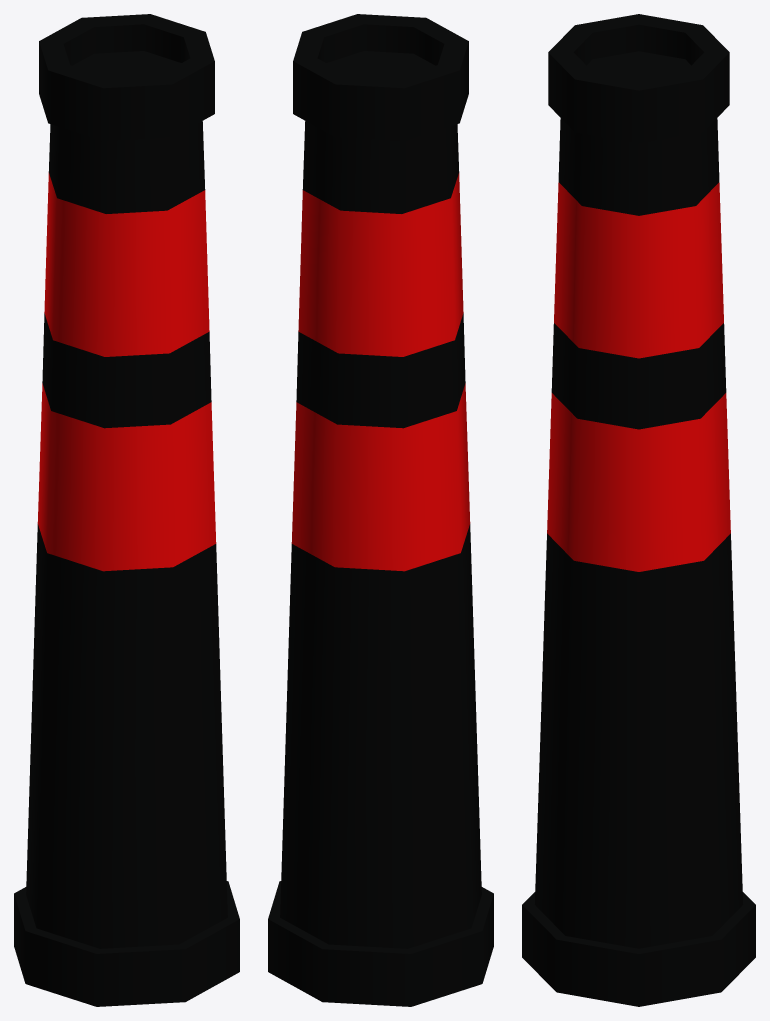
The model's file is chimney-medium.glb.
The picture shows the model from 3 angles, left to right: view 1: azimuth 30°, elevation 25°; view 2: azimuth 150°, elevation 25°; view 3: azimuth 270°, elevation 25°; orthographic projection.
Visible parts, largest first — view 1: chimney-medium; view 2: chimney-medium; view 3: chimney-medium.
Boxes of the visible parts, x1,y1,x2,y2 form: chimney-medium: [14, 14, 239, 1006]; chimney-medium: [268, 14, 493, 1006]; chimney-medium: [522, 14, 755, 1006].
Size of the model in its own units: 0.4505 by 1.92 by 0.4505.
1 material, 1 textured.
